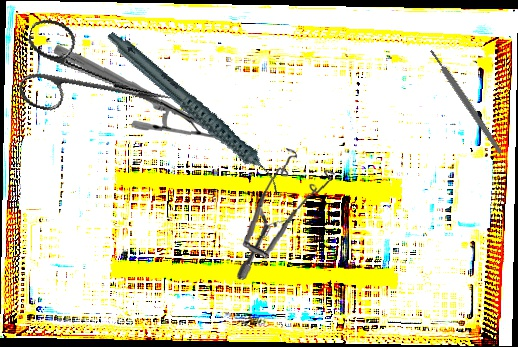Handpiece: (106, 3, 284, 222)
Iris Scissors: (10, 15, 183, 143)
Needle Holder: (54, 37, 240, 154)
Scalpel Handle: (428, 48, 504, 155)
Speculum: (235, 144, 338, 287)
